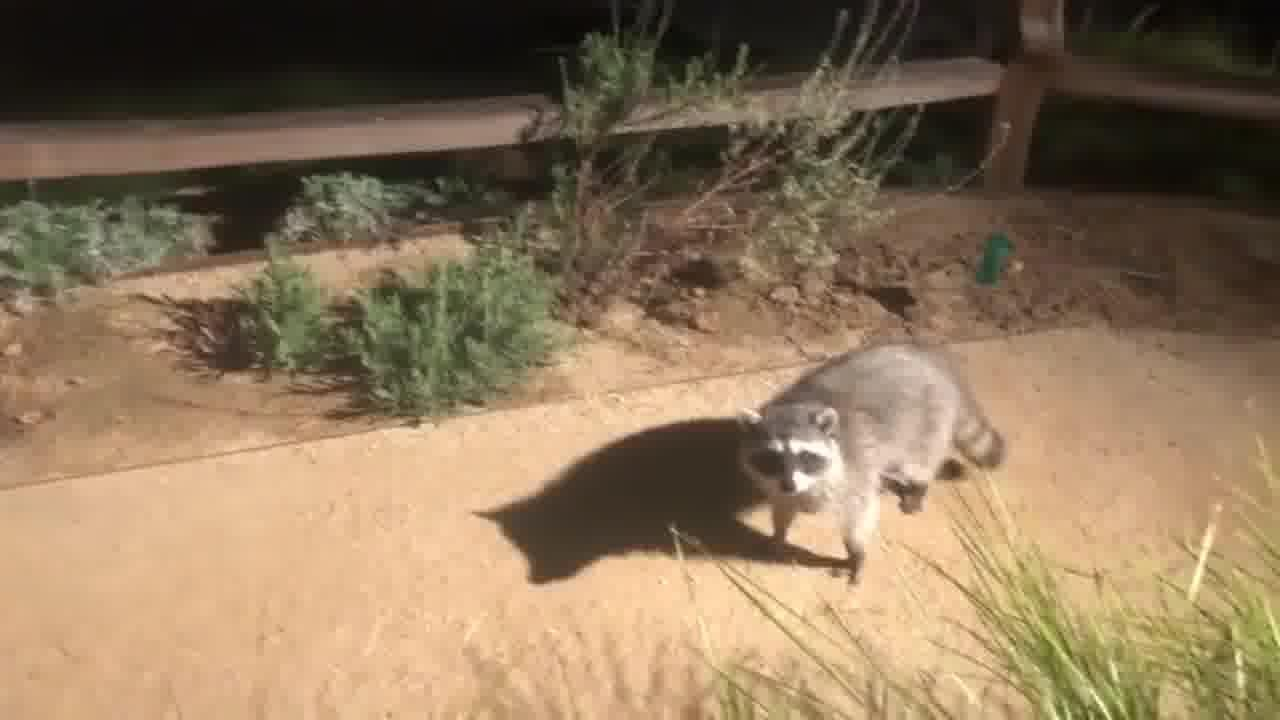raccoon: (724, 330, 1014, 595)
